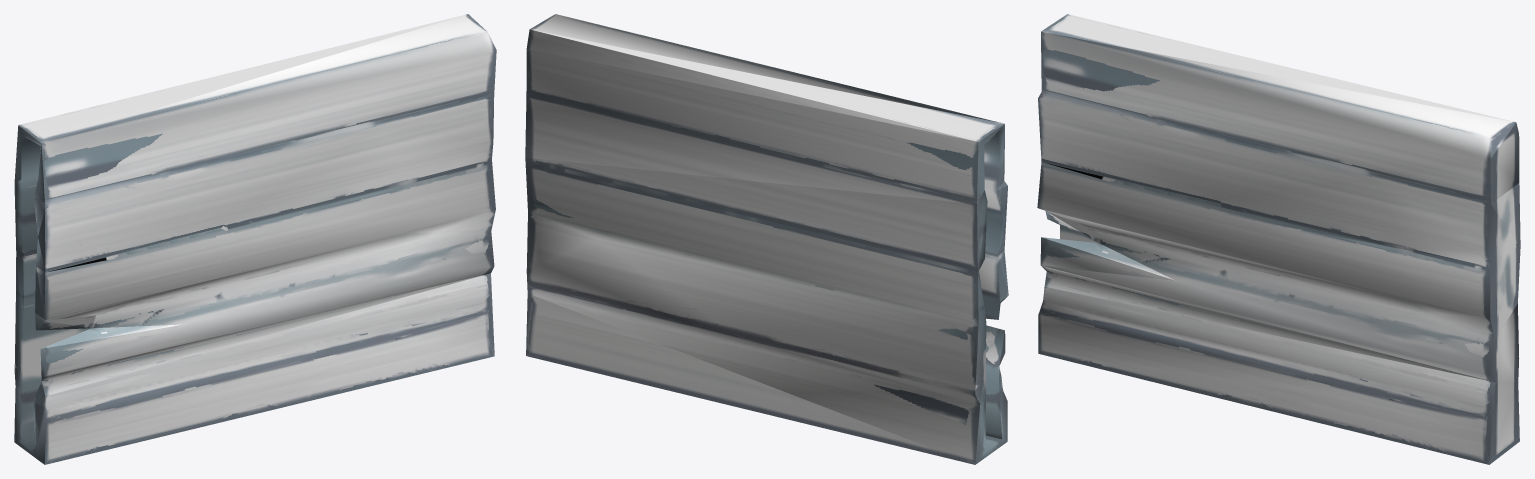
Rendered from shiplap-wood-wall.glb.
3 views of the same model, side by side, from view 1: azimuth 30°, elevation 25°; view 2: azimuth 150°, elevation 25°; view 3: azimuth 330°, elevation 25° (orthographic).
Parts seen in each view (by area): view 1: geometry_0.001; view 2: geometry_0.001; view 3: geometry_0.001.
Boxes of the visible parts, x1=… form: geometry_0.001: x1=14, y1=14, x2=496, y2=464; geometry_0.001: x1=525, y1=14, x2=1008, y2=464; geometry_0.001: x1=1037, y1=14, x2=1520, y2=464.
Bounding box in the file's own units: 0.9992 × 0.6792 × 0.1247.
1 material, 1 textured.
